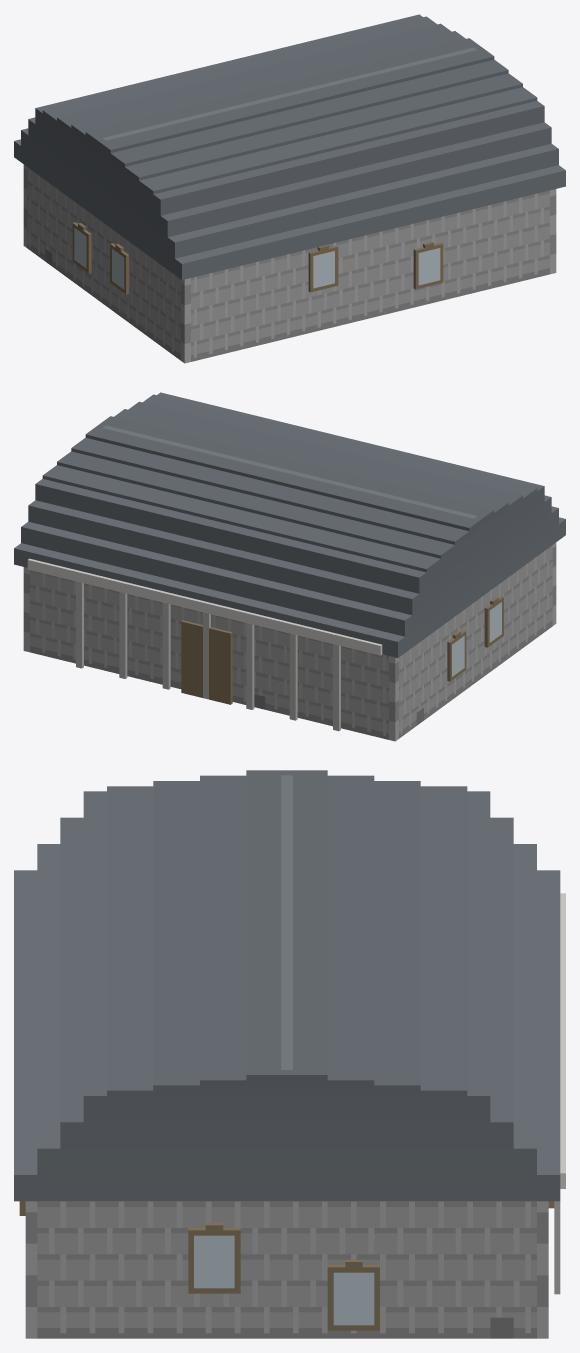
File: gran_mercado_04.glb
3 views of the same model, one above another, from view 1: azimuth 30°, elevation 25°; view 2: azimuth 150°, elevation 25°; view 3: azimuth 270°, elevation 25° (orthographic). The views are drawn at different scales.
Parts seen in each view (by area): view 1: gran_mercado_04; view 2: gran_mercado_04; view 3: gran_mercado_04.
Part boxes in pixels (left/top/right/bottom): gran_mercado_04: left=14, top=14, right=565, bottom=363; gran_mercado_04: left=14, top=392, right=565, bottom=741; gran_mercado_04: left=14, top=770, right=565, bottom=1338.
Size of the model in its own units: 12.4 by 5.1 by 9.5.
